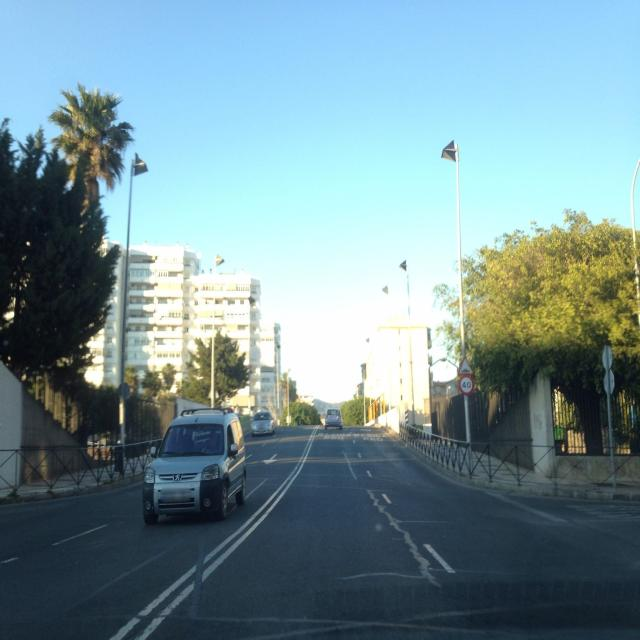car: (141, 408, 247, 526), (250, 410, 275, 438), (324, 407, 344, 431)
